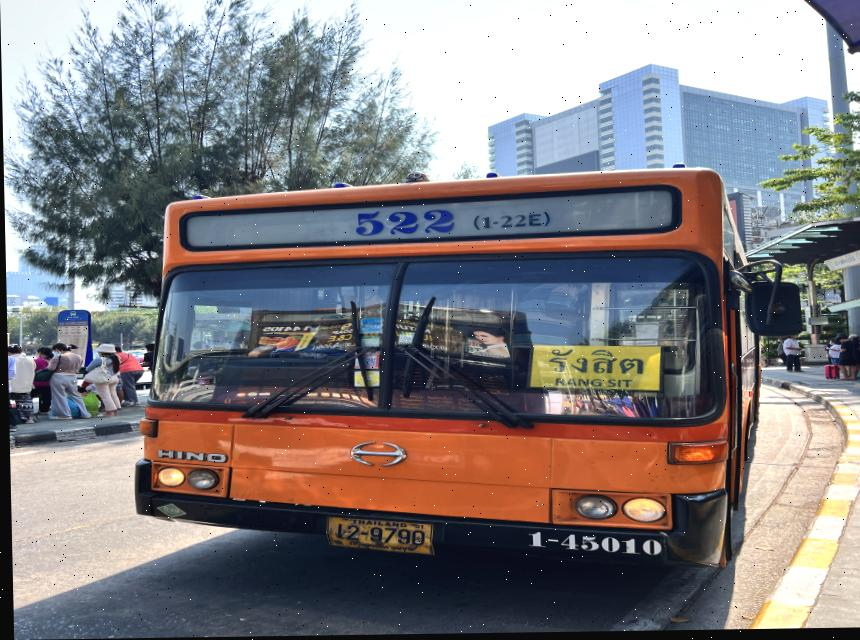BMTA-bus: (133, 171, 759, 571)
Bus Line Number: (344, 207, 559, 241)
Bus Side Number: (513, 528, 667, 562)
Destination Sign: (528, 342, 663, 398)
